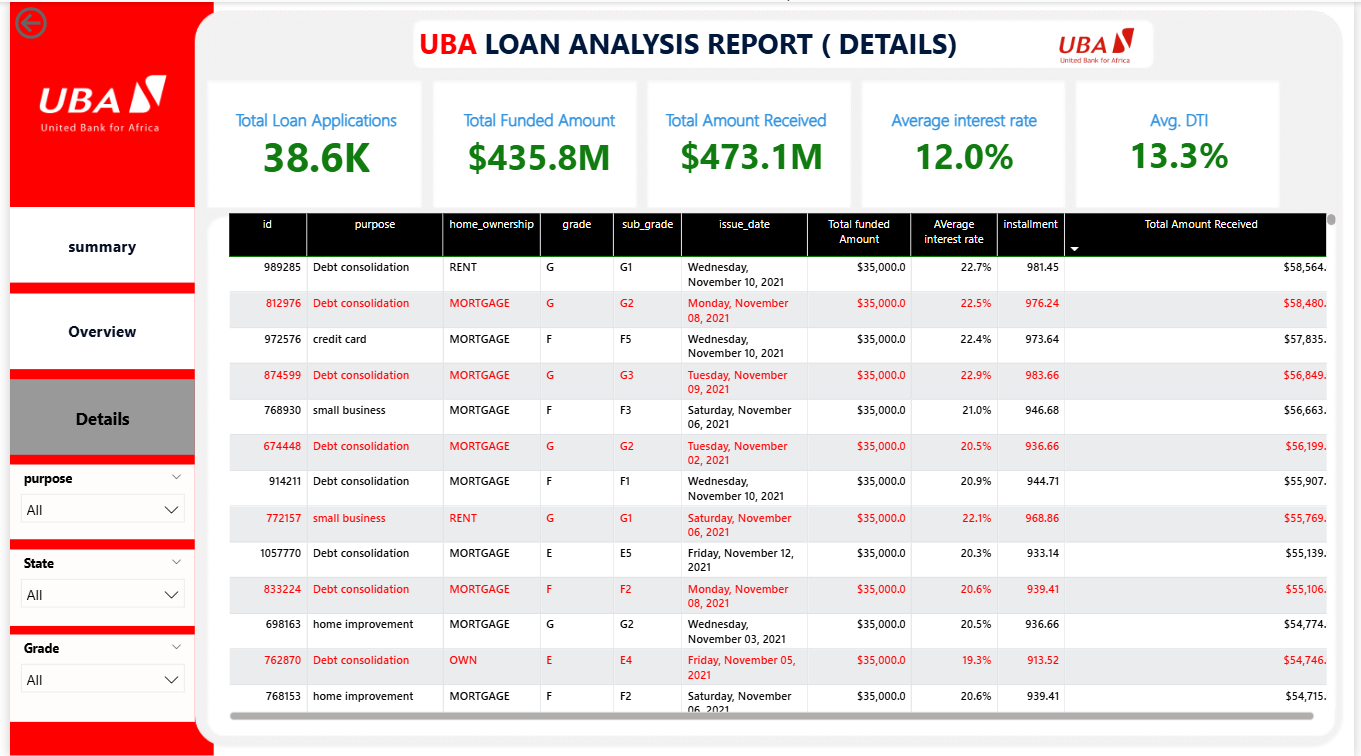

This screenshot's page, from the dashboard's own definition file:
{"tool":"powerbi","page":{"name":"Details","canvas":[1280,720],"ordinal":2},"visuals":[{"type":"image","box":[0,0,175.7,195.4],"z":0},{"type":"textbox","box":[384.5,15.5,702.4,45.2],"z":1000},{"type":"image","box":[814.3,0,441.7,86.9],"z":2000},{"type":"slicer","fields":{"Values":["financial_loan.purpose"]},"box":[0,440.5,176.2,71.4],"z":3000},{"type":"slicer","fields":{"Values":["financial_loan.grade"]},"box":[0,602.4,176.2,83.3],"z":4000},{"type":"slicer","fields":{"Values":["financial_loan.address_state"]},"box":[0,521.4,176.2,72.6],"z":5000},{"type":"cardVisual","fields":{"Data":["financial_loan.Total Loan Application"]},"box":[190.5,103.6,202.4,76.2],"z":6000},{"type":"textbox","box":[190.5,95.2,202.4,76.2],"z":7000},{"type":"cardVisual","fields":{"Data":["financial_loan.Total funded Amount"]},"box":[408.3,104.8,191.7,75],"z":8000},{"type":"textbox","box":[408.3,95.2,191.7,46.4],"z":9000},{"type":"textbox","box":[600,95.2,202.4,101.2],"z":10000},{"type":"cardVisual","fields":{"Data":["Date table.Total Amount Received"]},"box":[610.7,104.8,191.7,73.8],"z":11000},{"type":"cardVisual","fields":{"Data":["financial_loan.AVerage interest rate"]},"box":[813.1,98.8,191.7,84.5],"z":12000},{"type":"textbox","box":[814.3,95.2,189.3,40.5],"z":13000},{"type":"cardVisual","fields":{"Data":["financial_loan.Avg DTI"]},"box":[1017.9,101.2,191.7,77.4],"z":14000},{"type":"textbox","box":[1017.9,95.2,191.7,38.1],"z":15000},{"type":"tableEx","fields":{"Values":["financial_loan.id","financial_loan.purpose","financial_loan.home_ownership","financial_loan.grade","financial_loan.sub_grade","financial_loan.issue_date","financial_loan.Total funded Amount","financial_loan.AVerage interest rate","financial_loan.installment","Date table.Total Amount Received"]},"box":[202.4,196.4,1065.5,492.9],"z":16000},{"type":"actionButton","box":[0,0,100,40],"z":17000},{"type":"pageNavigator","box":[0,195.2,176.2,236.9],"z":18000}]}

Visuals, with their boxes on the page's 1280x720 design canvas (x1, y1, x2, y2). These are canvas units, not pixel positions in the 1361x756 screenshot, which may show the page scaled, cropped or inside an application window:
image: rect(0, 0, 176, 195)
textbox: rect(384, 16, 1087, 61)
image: rect(814, 0, 1256, 87)
slicer - financial_loan.purpose: rect(0, 440, 176, 512)
slicer - financial_loan.grade: rect(0, 602, 176, 686)
slicer - financial_loan.address_state: rect(0, 521, 176, 594)
cardVisual - financial_loan.Total Loan Application: rect(190, 104, 393, 180)
textbox: rect(190, 95, 393, 171)
cardVisual - financial_loan.Total funded Amount: rect(408, 105, 600, 180)
textbox: rect(408, 95, 600, 142)
textbox: rect(600, 95, 802, 196)
cardVisual - Date table.Total Amount Received: rect(611, 105, 802, 179)
cardVisual - financial_loan.AVerage interest rate: rect(813, 99, 1005, 183)
textbox: rect(814, 95, 1004, 136)
cardVisual - financial_loan.Avg DTI: rect(1018, 101, 1210, 179)
textbox: rect(1018, 95, 1210, 133)
tableEx - financial_loan.id x financial_loan.purpose: rect(202, 196, 1268, 689)
actionButton: rect(0, 0, 100, 40)
pageNavigator: rect(0, 195, 176, 432)
